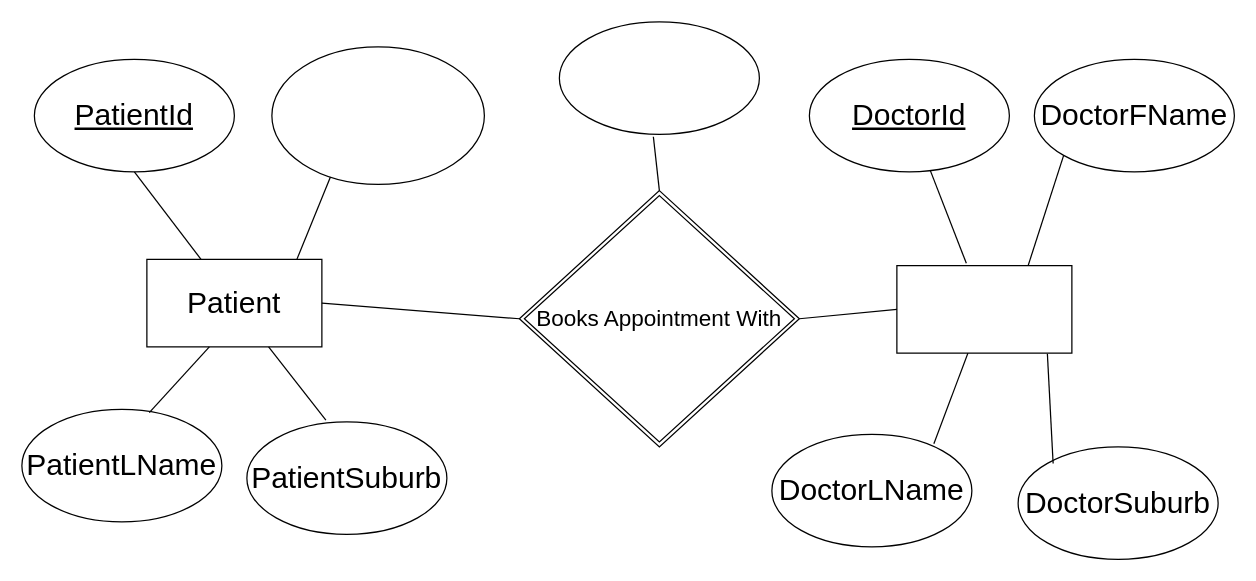
The diagram is 1256 pixels wide and 581 high, and some of its shapes have lost their labels. Each missing label, with the centre of its shape:
"App Date" belongs at point 658,77.
"Doctor" belongs at point 984,308.
"PatientFName" belongs at point 377,115.
